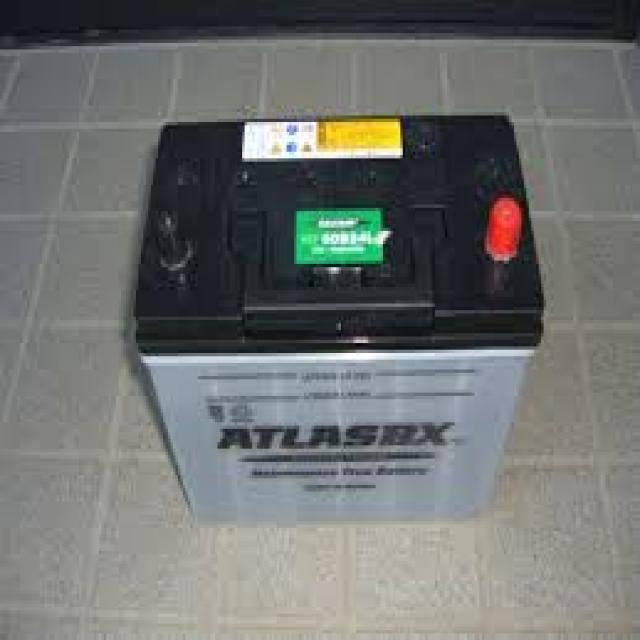b3: (137, 96, 556, 558)
